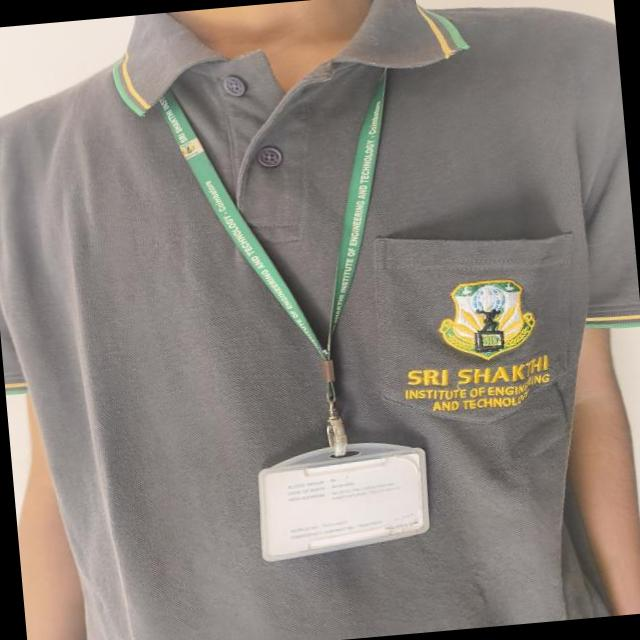id_card: (164, 68, 438, 574)
